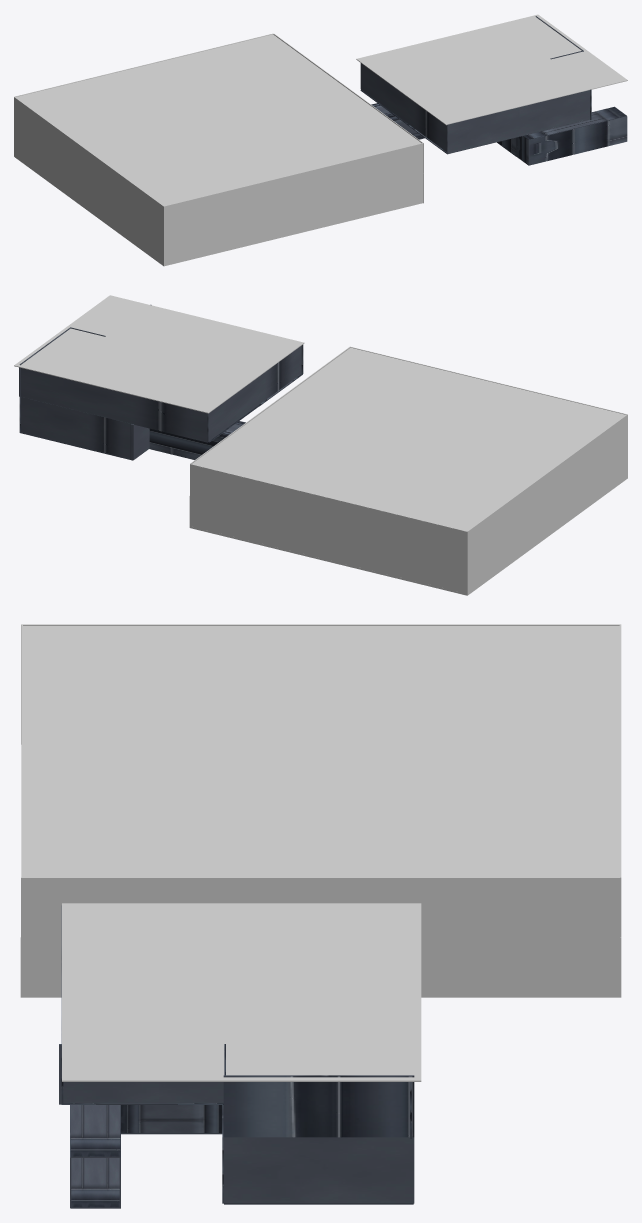
The model's file is Facility_Level.fbx.
The picture shows the model from 3 angles, top to bottom: view 1: azimuth 30°, elevation 25°; view 2: azimuth 150°, elevation 25°; view 3: azimuth 270°, elevation 25°; orthographic projection. The views are drawn at different scales.
Visible parts, largest first — view 1: Cube.043, Cube.019, Cube.040, Cube.041, Cube.035, Cube.036, Cube.028, Cube.016, Cube.015, Cube.014, Cube.025, Cube.038 (+1 smaller); view 2: Cube.043, Cube.019, Cube.038, Cube.039, Cube.020, Cube.035, Cube.036, Cube.005, Cube.016, Cube.031, Cube.004; view 3: Cube.043, Cube.019, Cube.037, Cube.006, Cube.033, Cube.021, Cube.018, Cube.012, Cube.025, Cube.034, Cube.026, Cube.035 (+1 smaller).
Boxes of the visible parts, bbox=[...] form: Cube.043: bbox=[15, 34, 421, 205]; Cube.019: bbox=[356, 14, 627, 125]; Cube.040: bbox=[164, 143, 422, 236]; Cube.041: bbox=[164, 173, 422, 265]; Cube.035: bbox=[14, 97, 164, 236]; Cube.036: bbox=[14, 127, 164, 266]; Cube.028: bbox=[529, 116, 627, 165]; Cube.016: bbox=[360, 63, 446, 151]; Cube.015: bbox=[447, 107, 519, 153]; Cube.014: bbox=[519, 89, 591, 135]; Cube.025: bbox=[523, 106, 626, 139]; Cube.038: bbox=[14, 33, 273, 126]; Cube.043: bbox=[191, 347, 625, 532]; Cube.019: bbox=[14, 295, 304, 413]; Cube.038: bbox=[190, 464, 467, 563]; Cube.039: bbox=[190, 496, 467, 595]; Cube.020: bbox=[19, 367, 207, 442]; Cube.035: bbox=[467, 414, 627, 563]; Cube.036: bbox=[467, 447, 627, 595]; Cube.005: bbox=[21, 397, 130, 458]; Cube.016: bbox=[207, 346, 301, 441]; Cube.031: bbox=[149, 428, 228, 459]; Cube.004: bbox=[130, 424, 149, 460]; Cube.043: bbox=[23, 626, 619, 877]; Cube.019: bbox=[62, 903, 421, 1081]; Cube.037: bbox=[21, 877, 619, 937]; Cube.006: bbox=[223, 1137, 414, 1203]; Cube.033: bbox=[421, 937, 621, 997]; Cube.021: bbox=[223, 1075, 414, 1137]; Cube.018: bbox=[59, 1044, 223, 1104]; Cube.012: bbox=[121, 1105, 222, 1132]; Cube.025: bbox=[70, 1105, 120, 1157]; Cube.034: bbox=[20, 937, 61, 997]; Cube.026: bbox=[71, 1158, 119, 1208]; Cube.035: bbox=[21, 624, 619, 684].
Size of the model in its own units: 14014 by 1807 by 7666.
3 materials, 3 textured.
